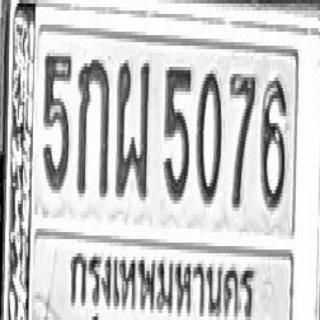A01: (76, 56, 109, 197)
A28: (114, 58, 150, 199)
N00: (196, 67, 222, 204)
N05: (43, 51, 72, 192), (164, 63, 192, 200)
N06: (260, 76, 286, 209)
N07: (229, 70, 256, 208)
P04: (62, 239, 260, 320)
